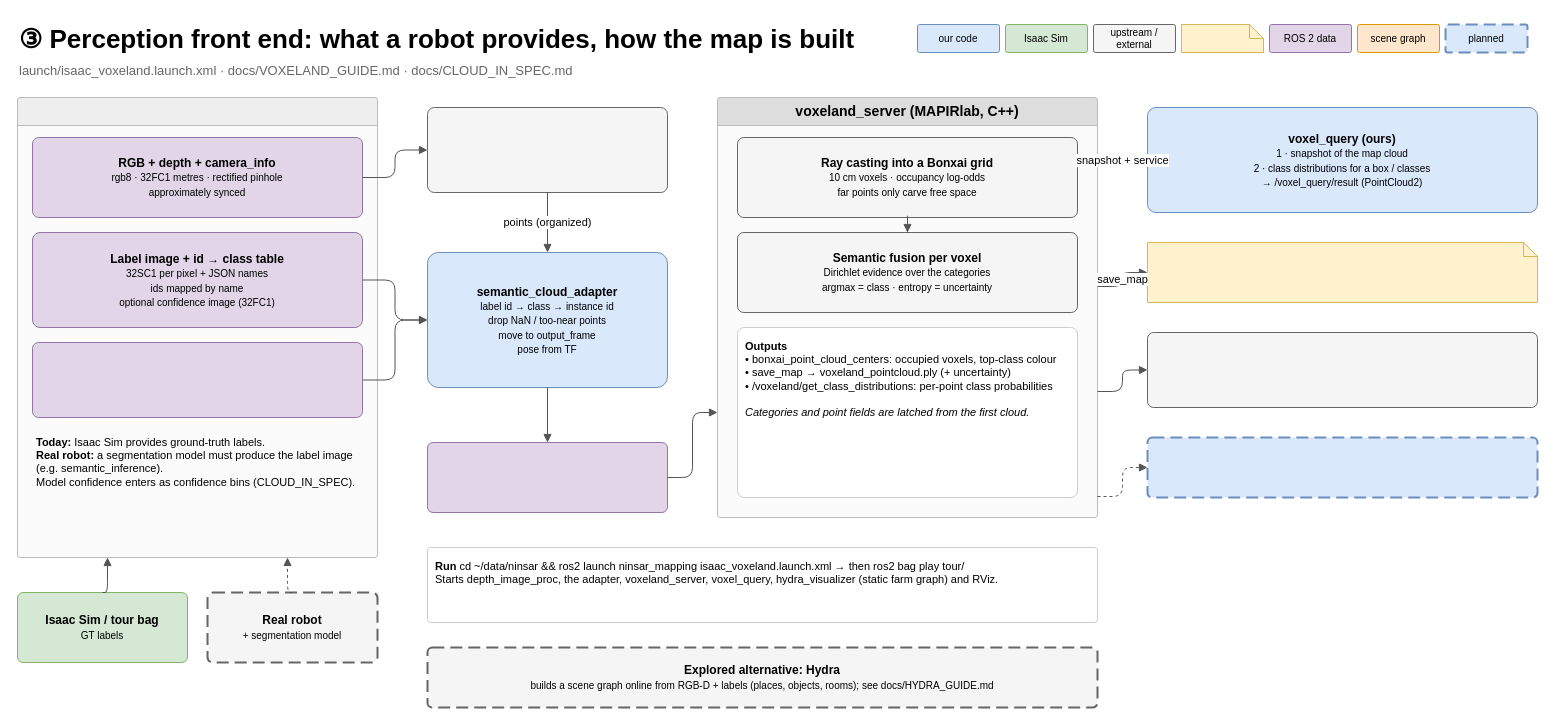
This 1556x725 diagram has some shape labels left out. Each missing label, with the box of its shape:
/cloud_in SemanticPointCloud: (426, 442, 668, 512)
Contract: what a robot must provide: (16, 96, 378, 558)
depth_image_proc point_cloud_xyzrgb_node back-project → organized XYZRGB: (426, 106, 668, 192)
file: (1180, 24, 1264, 52)
RViz voxel map · query result · static farm scene graph (hydra_visualizer): (1146, 332, 1538, 408)
TF world → camera at the image stamp (localization / odometry): (32, 342, 362, 418)
voxeland_pointcloud.ply view_map.py (Open3D): (1146, 242, 1538, 302)
→ Scene graph updater (p.5): (1146, 436, 1538, 498)
